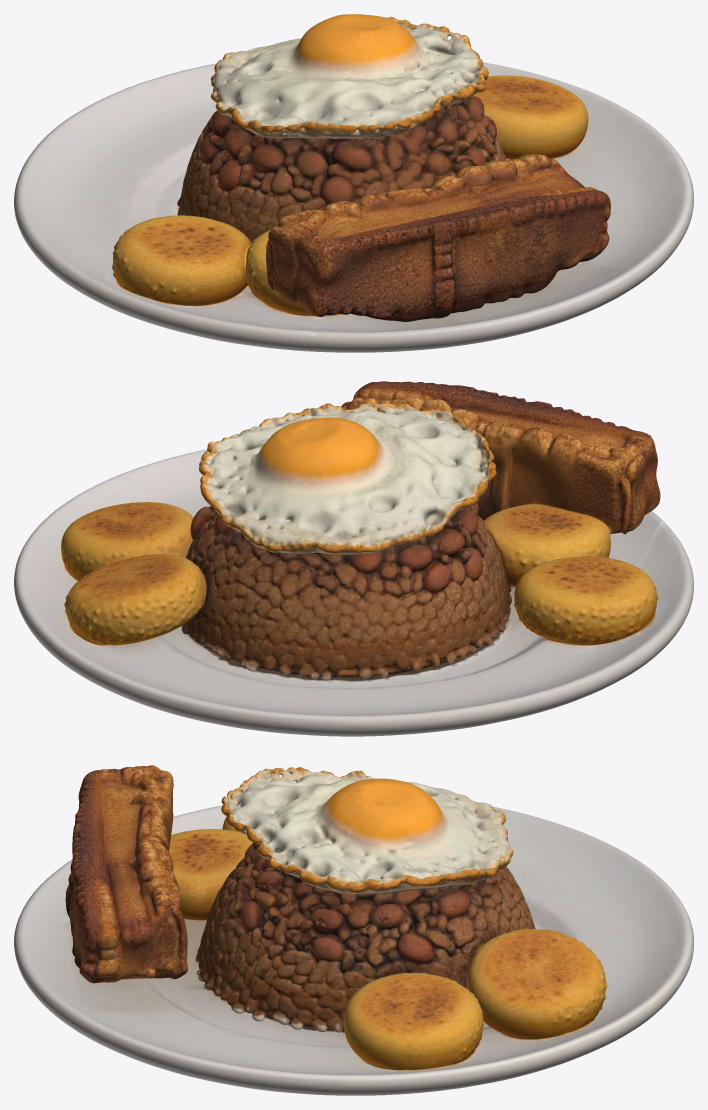
File: rice_and_beans.glb
The picture shows the model from 3 angles, top to bottom: view 1: azimuth 30°, elevation 25°; view 2: azimuth 150°, elevation 25°; view 3: azimuth 270°, elevation 25°; orthographic projection.
Visible parts, largest first — view 1: tripo_node_50c3b6fd-49ae-47a9-b10d-b4460a01a3a5; view 2: tripo_node_50c3b6fd-49ae-47a9-b10d-b4460a01a3a5; view 3: tripo_node_50c3b6fd-49ae-47a9-b10d-b4460a01a3a5.
Boxes of the visible parts, x1,y1,x2,y2 form: tripo_node_50c3b6fd-49ae-47a9-b10d-b4460a01a3a5: [14, 14, 693, 352]; tripo_node_50c3b6fd-49ae-47a9-b10d-b4460a01a3a5: [14, 381, 693, 736]; tripo_node_50c3b6fd-49ae-47a9-b10d-b4460a01a3a5: [14, 765, 693, 1095].
Size of the model in its own units: 0.9801 by 0.3195 by 0.9789.
1 material, 1 textured.
